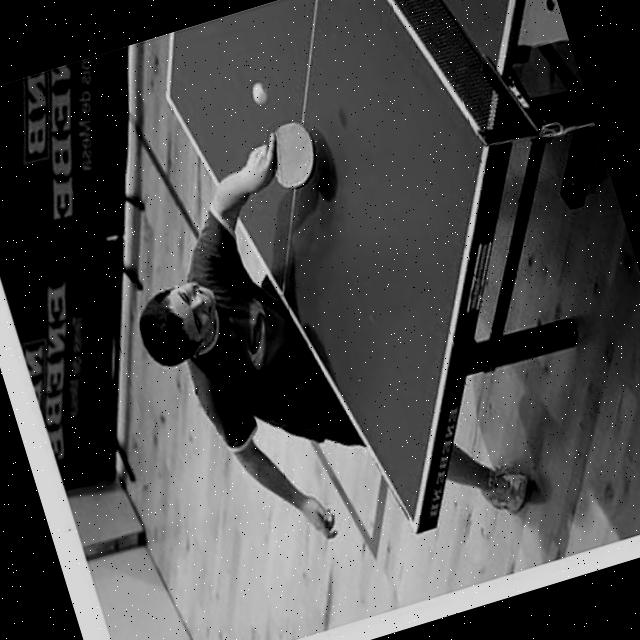ping-pong-ball: (245, 78, 272, 109)
